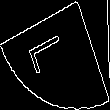L_NE: (32, 31, 78, 79)
